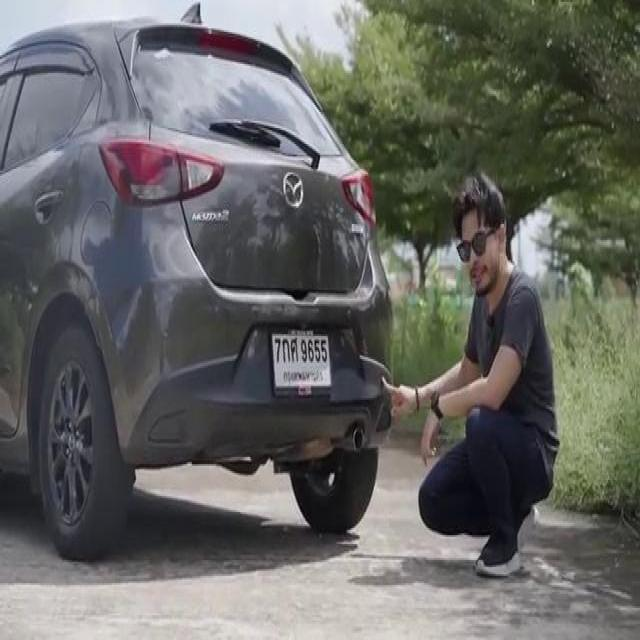Hatchback: (0, 4, 392, 558)
